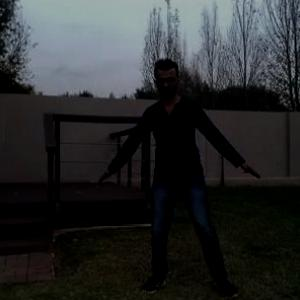land: (103, 56, 268, 299)
